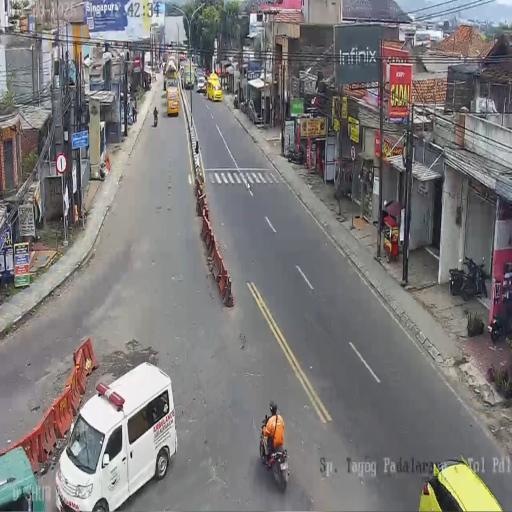3: (184, 60, 196, 90)
car: (207, 74, 222, 102), (166, 85, 179, 116), (197, 75, 205, 92)
truck: (259, 415, 290, 492), (490, 268, 512, 340), (459, 254, 488, 301), (286, 144, 304, 165), (240, 98, 249, 114), (234, 91, 238, 109), (153, 73, 156, 83)
